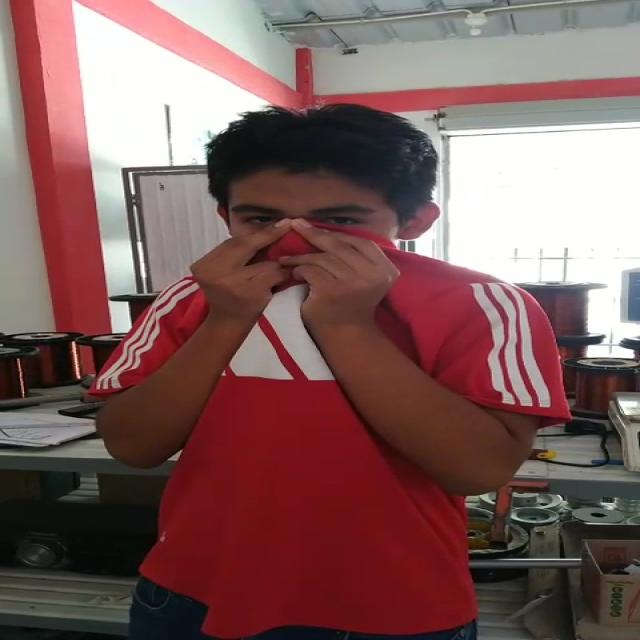8_ropa_rostro: (215, 218, 426, 316)
